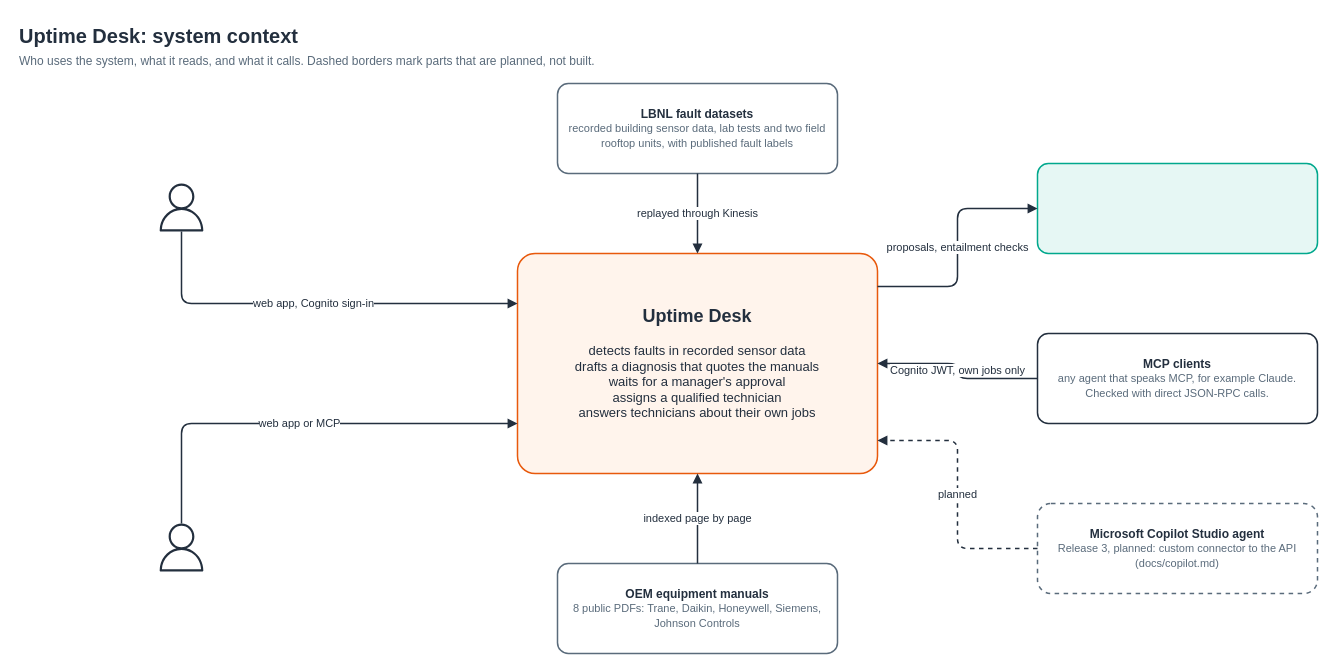
Some shapes in this 1335 by 671 pixel diagram are drawn without their labels. Here are the shapes that lost their labels. From the top down, the box of each, then its label:
(157, 183, 205, 231): Service manager approves, edits, or rejects work orders
(1036, 162, 1318, 254): Amazon Bedrock gpt-oss-120b, gpt-oss-20b, Titan text embeddings v2
(157, 523, 205, 571): Field technician sees own jobs and quoted steps
